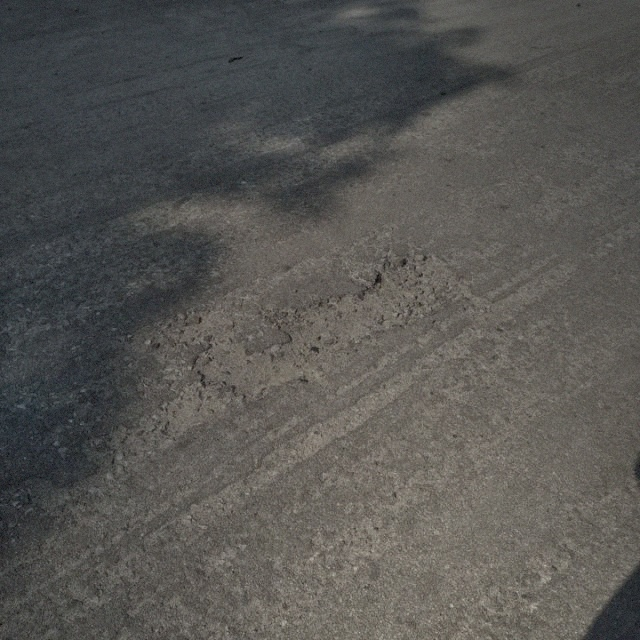pothole: (151, 247, 465, 437)
